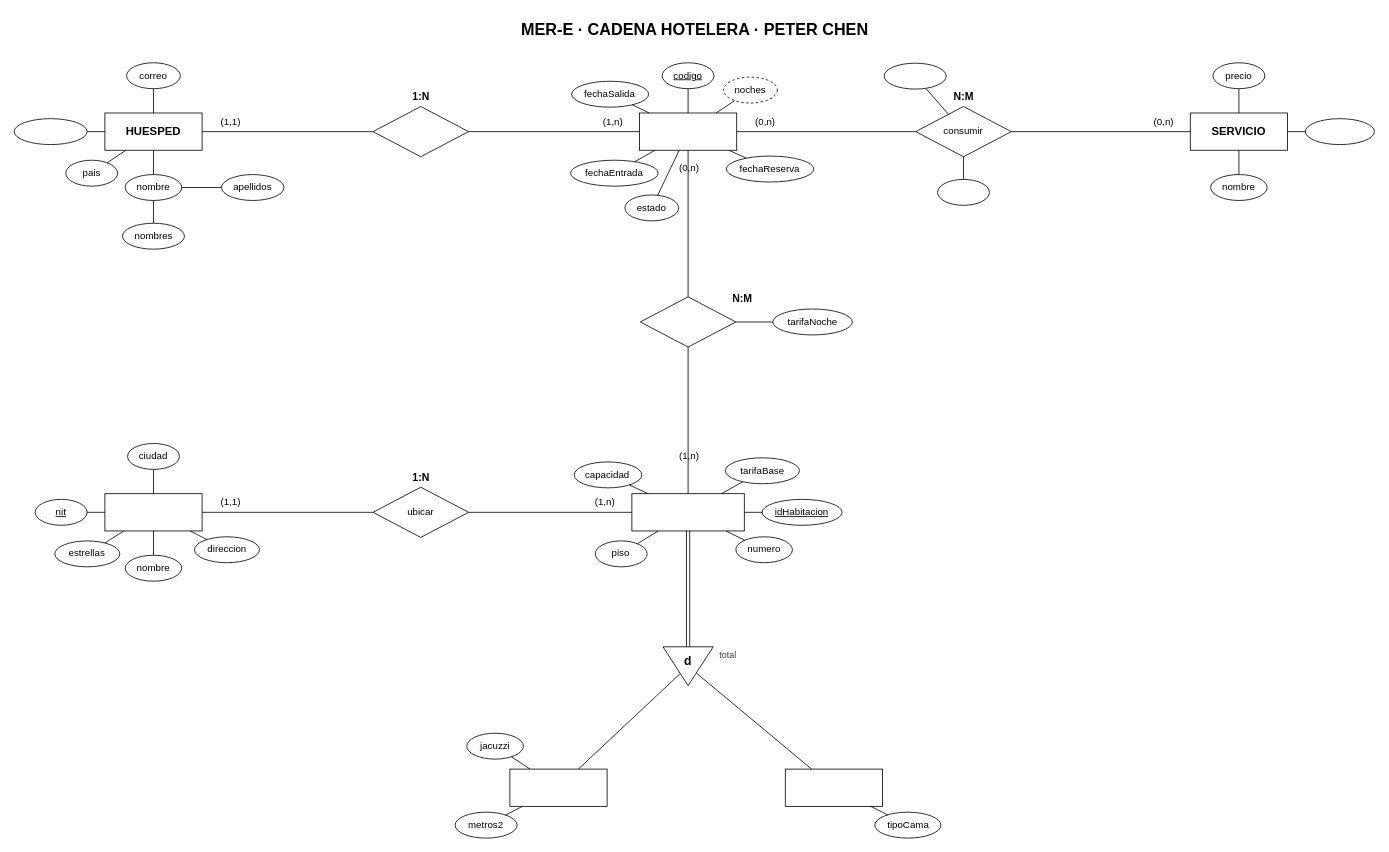
The diagram is 1389 pixels wide and 852 high, and some of its shapes have lost their labels. Here are the shapes that lost their labels. From the top down, the centre of each, then its label:
At (914,75): "cantidad".
At (50,131): "documento".
At (420,131): "hacer".
At (688,131): "RESERVA".
At (1339,131): "idServicio".
At (963,192): "fecha".
At (687,321): "alojar".
At (153,512): "HOTEL".
At (687,512): "HABITACION".
At (558,787): "SUITE".
At (833,787): "ESTANDAR".
